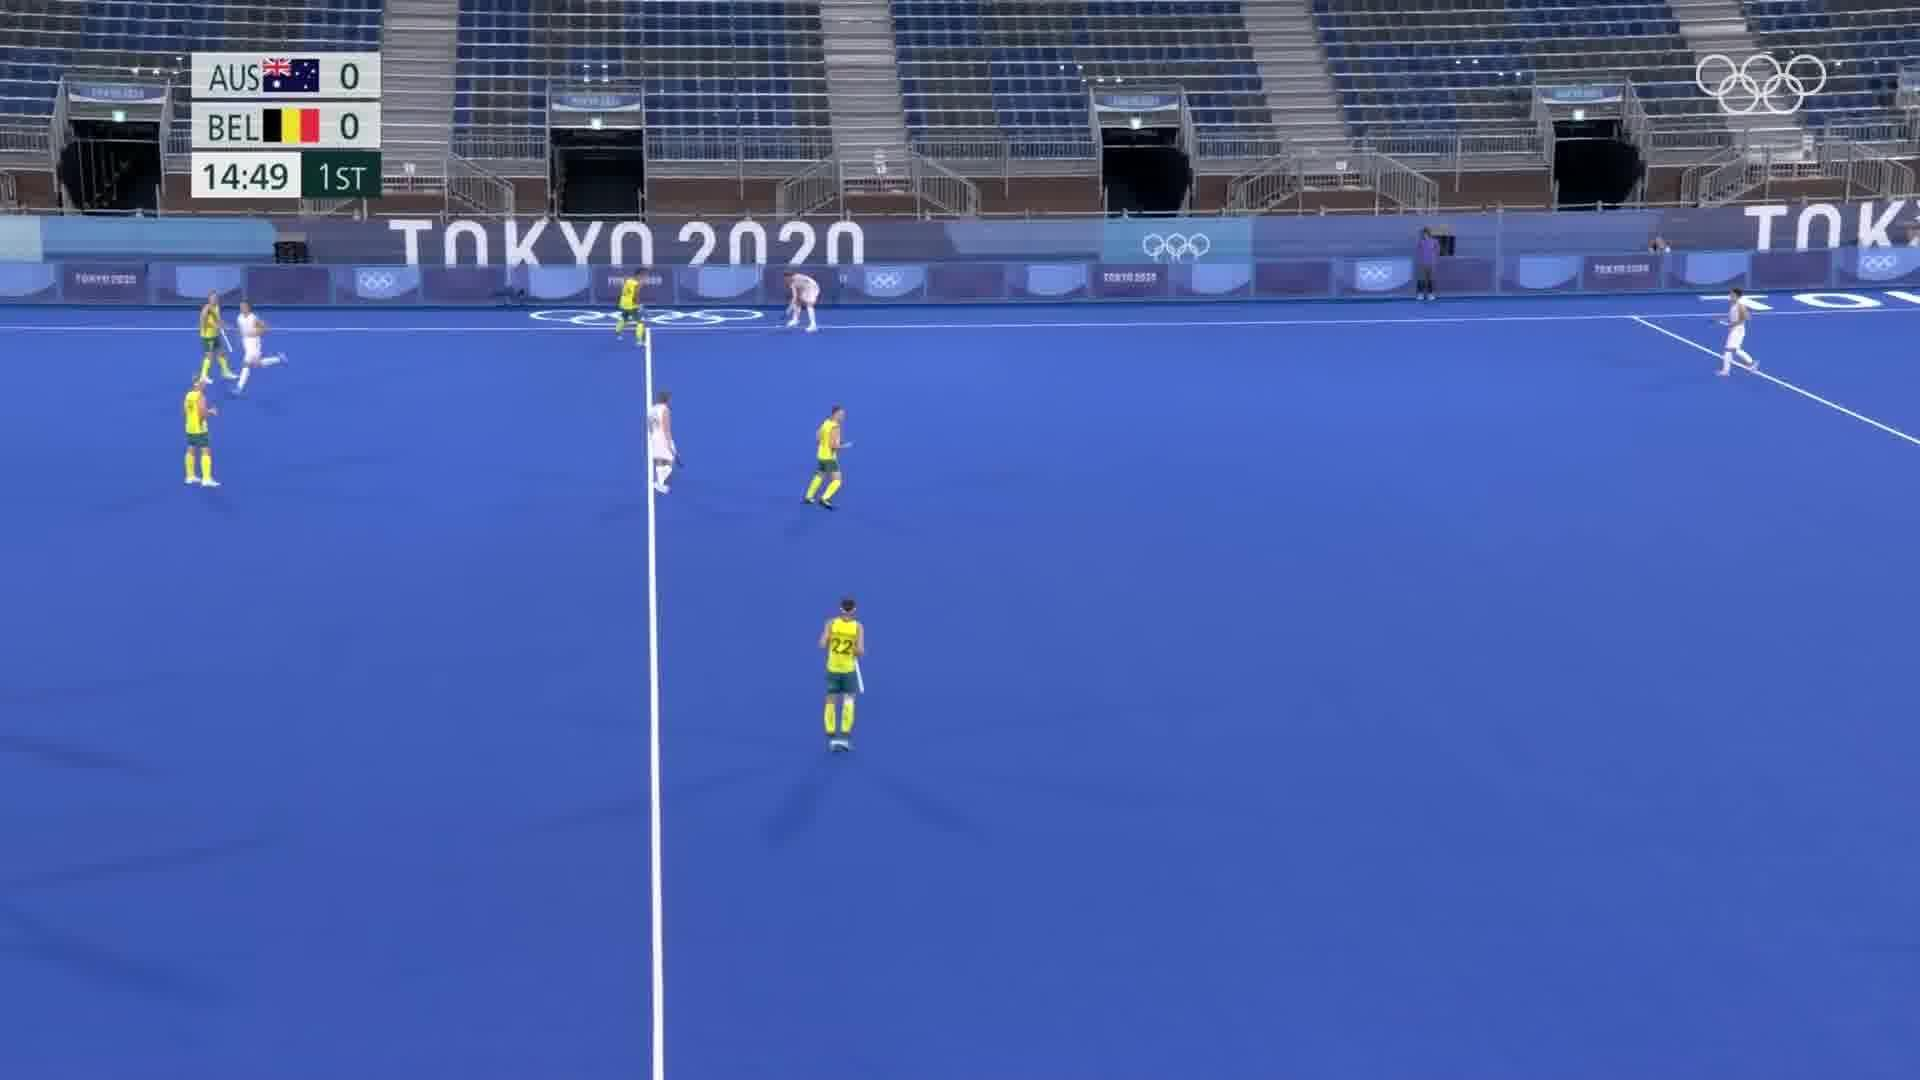ball: (774, 324, 783, 332)
